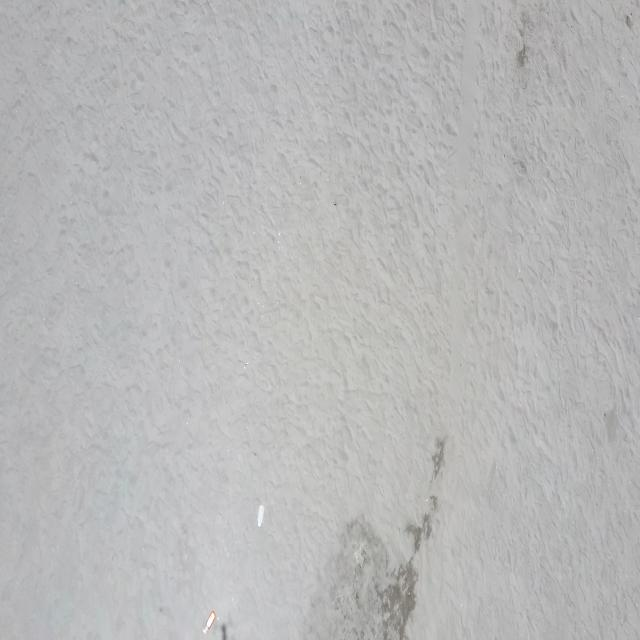plastic-bottle: (202, 611, 216, 635), (256, 504, 265, 528)
